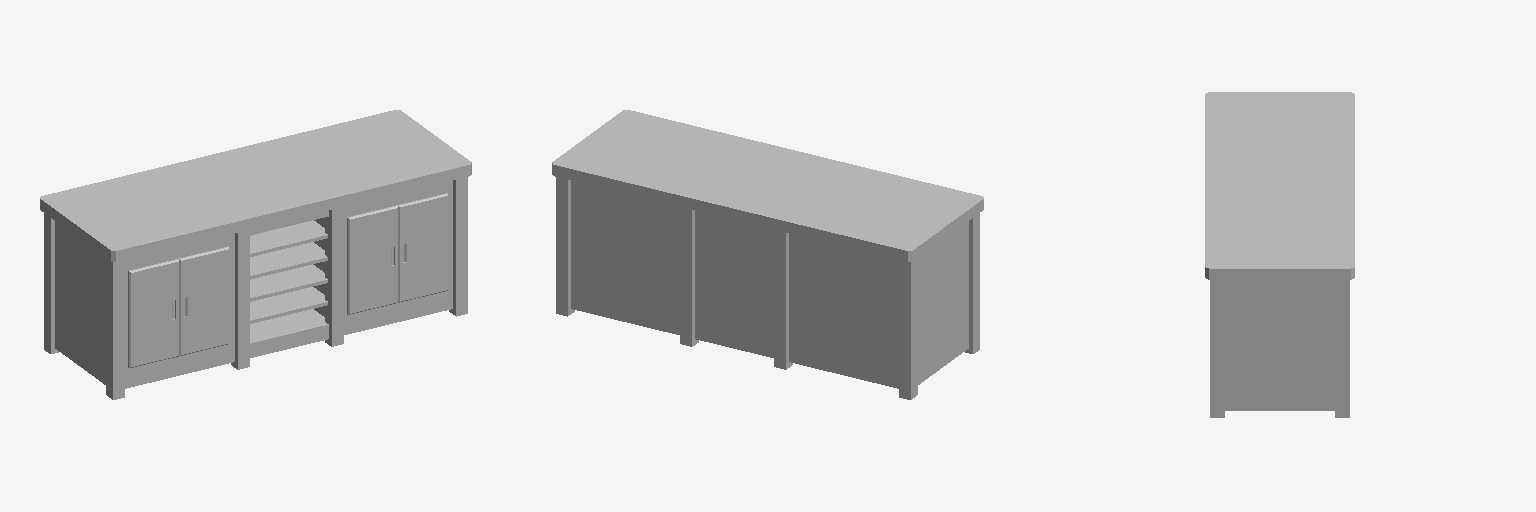
Rendered from Gimmick_Cabinet02.obj.
3 views of the same model, side by side, from view 1: azimuth 30°, elevation 25°; view 2: azimuth 150°, elevation 25°; view 3: azimuth 270°, elevation 25° (orthographic).
Parts seen in each view (by area): view 1: Gimmick_Cabinet02 Gimmick_Cabinet02; view 2: Gimmick_Cabinet02 Gimmick_Cabinet02; view 3: Gimmick_Cabinet02 Gimmick_Cabinet02.
Part boxes in pixels (bbox=[...]): Gimmick_Cabinet02 Gimmick_Cabinet02: bbox=[40, 110, 471, 399]; Gimmick_Cabinet02 Gimmick_Cabinet02: bbox=[552, 110, 983, 399]; Gimmick_Cabinet02 Gimmick_Cabinet02: bbox=[1205, 92, 1354, 417].
Bounding box in the file's own units: 200 × 80 × 72.